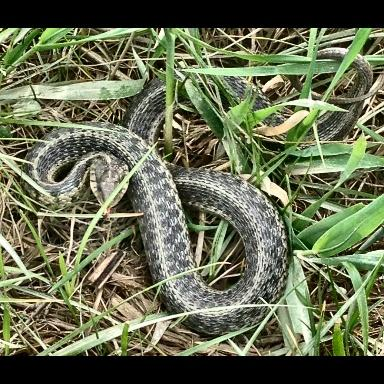snake: (24, 80, 290, 315), (316, 75, 384, 141), (219, 77, 300, 104)
